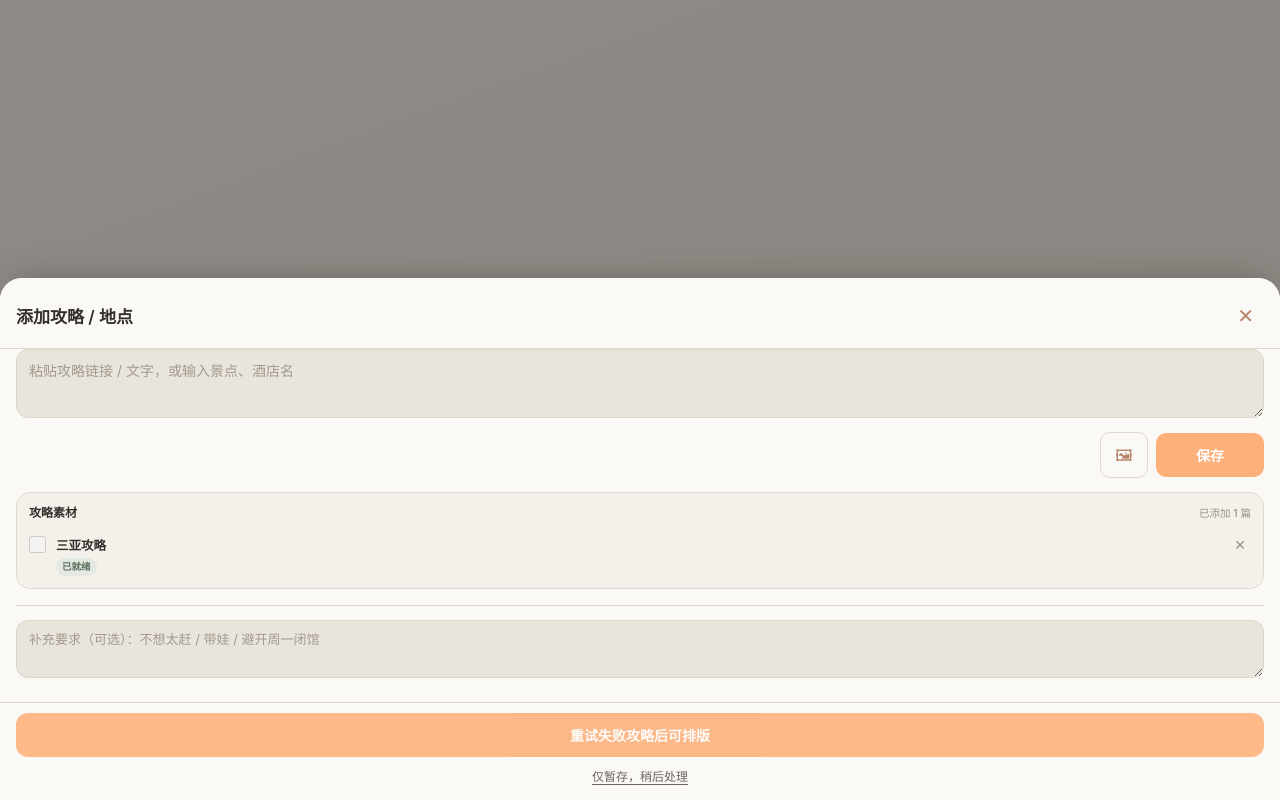
Test: NoteInput 来源删除二次确认端到端（任务 188） › 确认移除成功：软移除 API 调用一次，列表剔除并通知父组件刷新
Later steps or results of the test are not shown.
// 点 ✕ 只弹确认，API 未被调用
Click the button named "移除该攻略": (1240, 545) [1229, 535, 1251, 555]
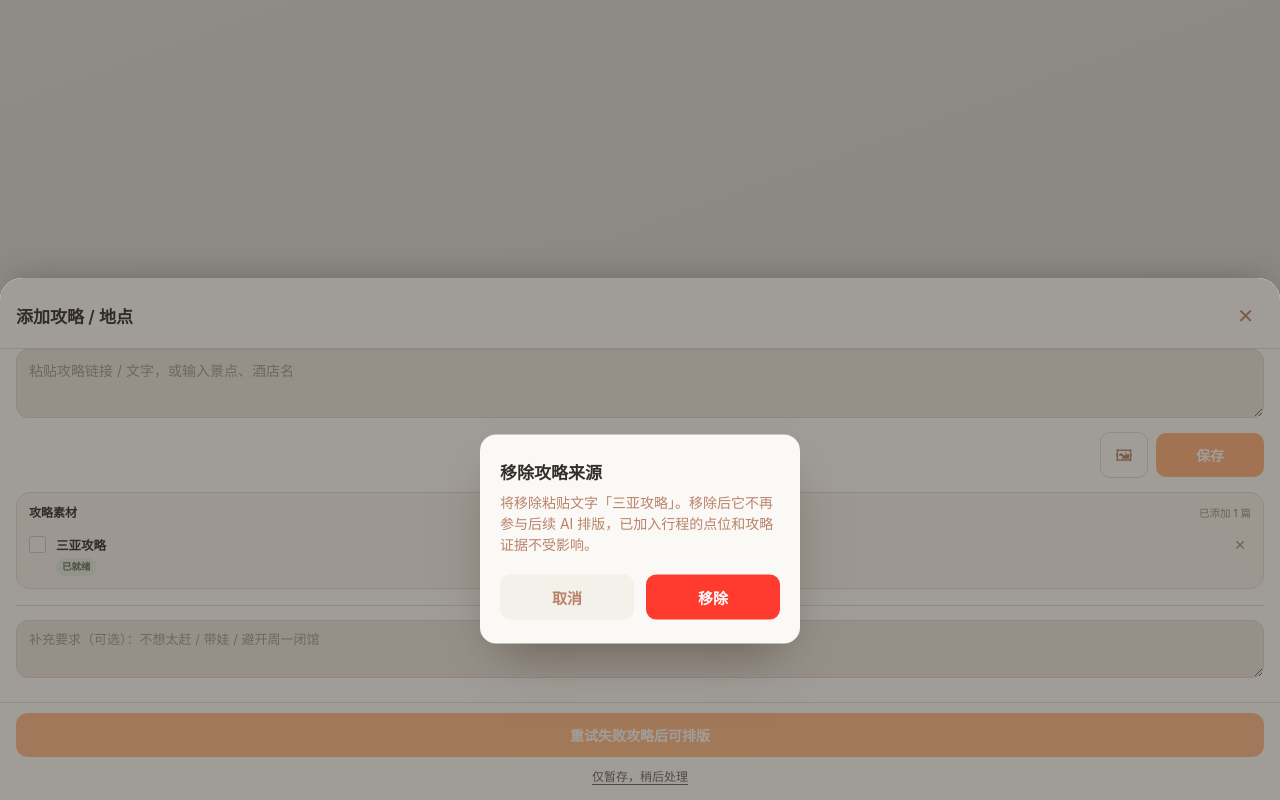
Now the dialog "移除攻略来源" is shown, box [480, 434, 800, 643]
